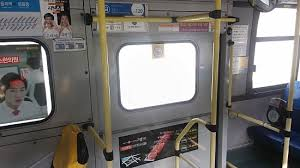exit: (87, 13, 227, 168)
